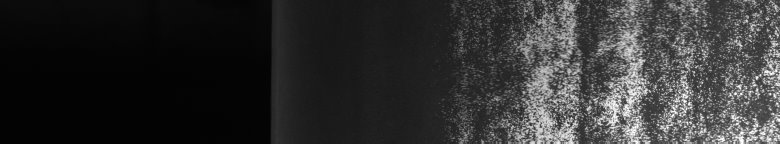kb: (468, 4, 776, 136)
